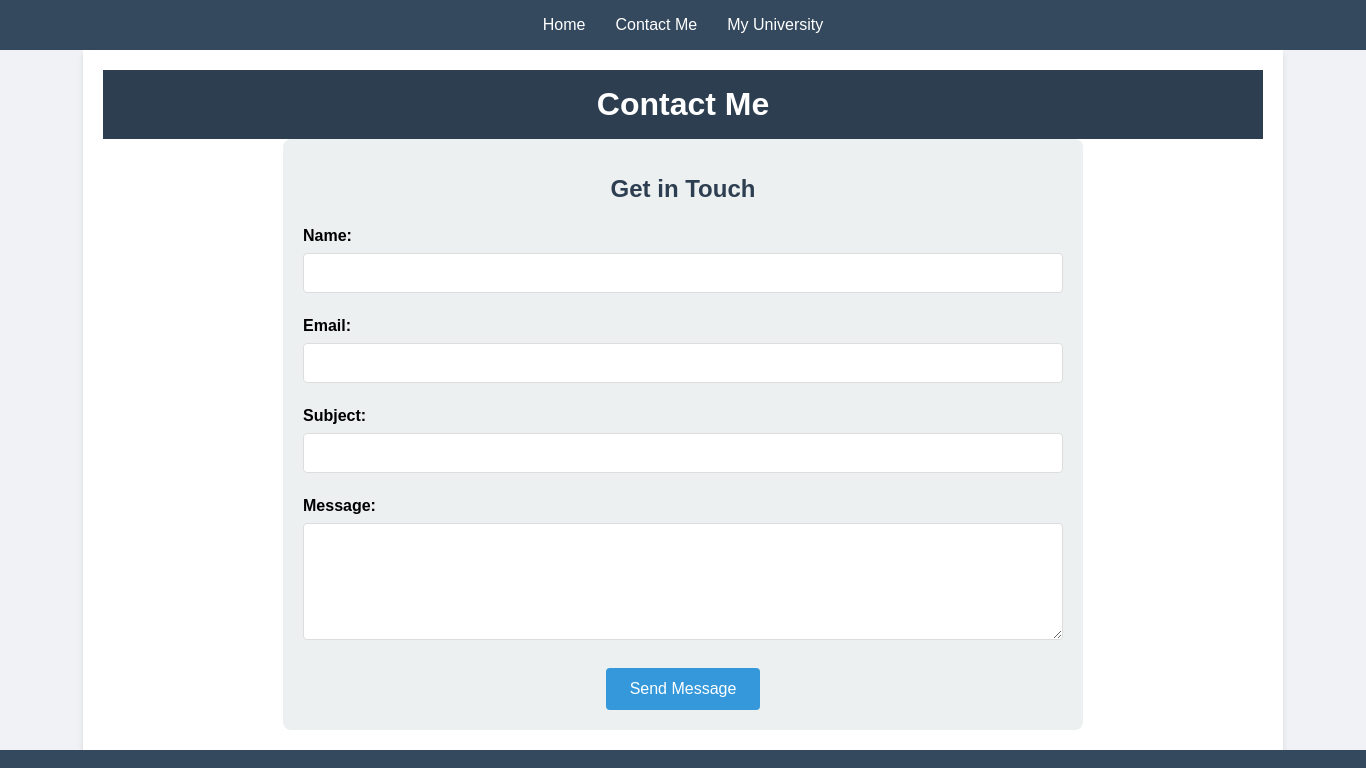
Test: Contact Form Submission › should display error message when form submission fails
Note: Fill out form fields
Type "Test User" into the field with id "name" at (683, 273), box [303,253,1063,293]
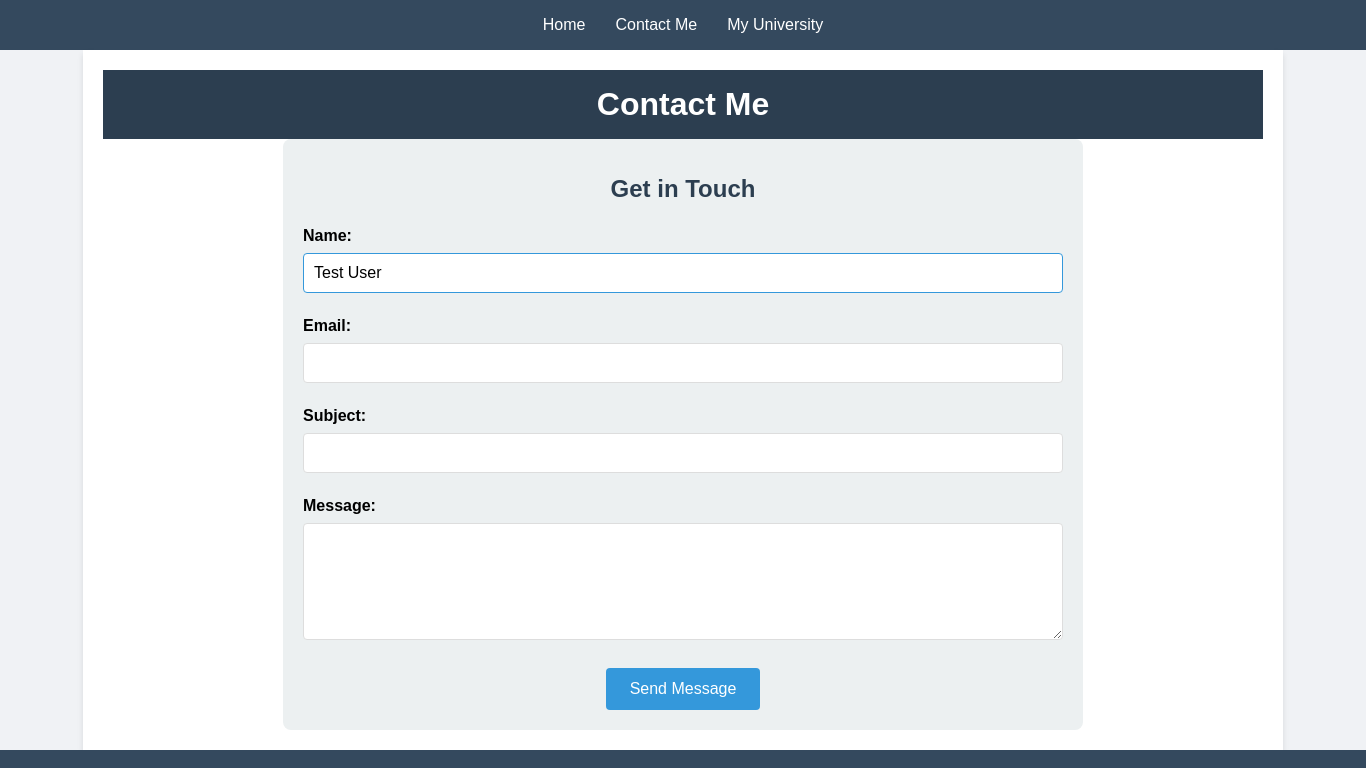
Type "test@example.com" into the field with id "email" at (683, 363), box [303,343,1063,383]
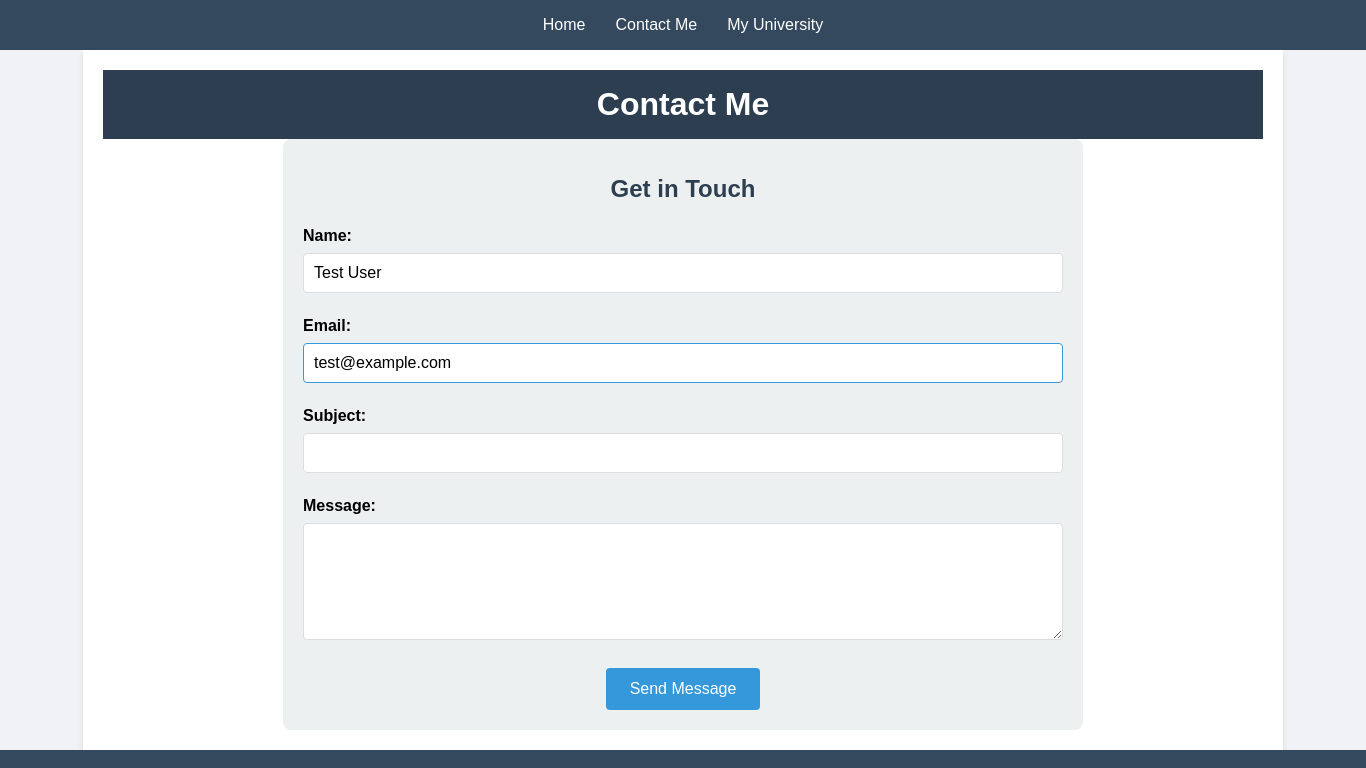
Type "E2E Test Subject" into the field with id "subject" at (683, 453), box [303,433,1063,473]
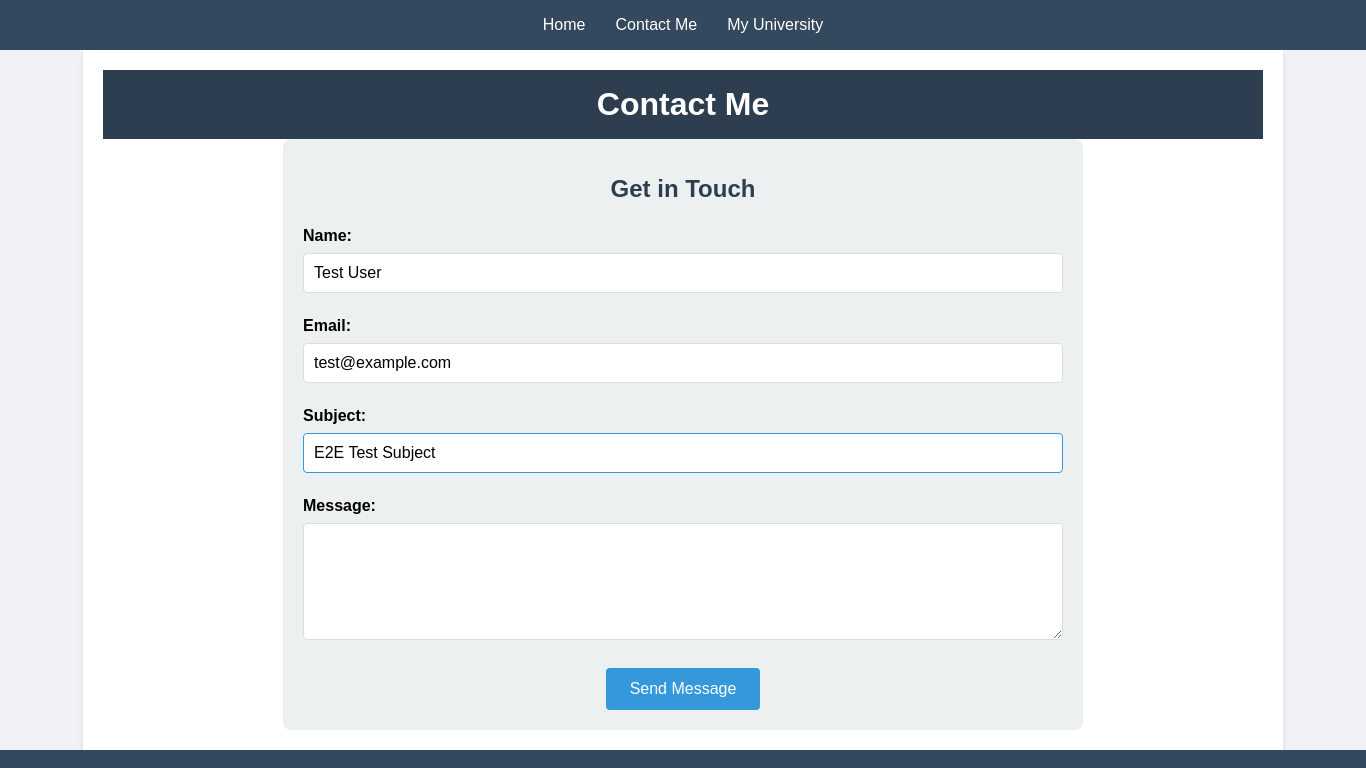
Type "This should trigger an error response." into the text box with id "message" at (683, 582), box [303,523,1063,640]
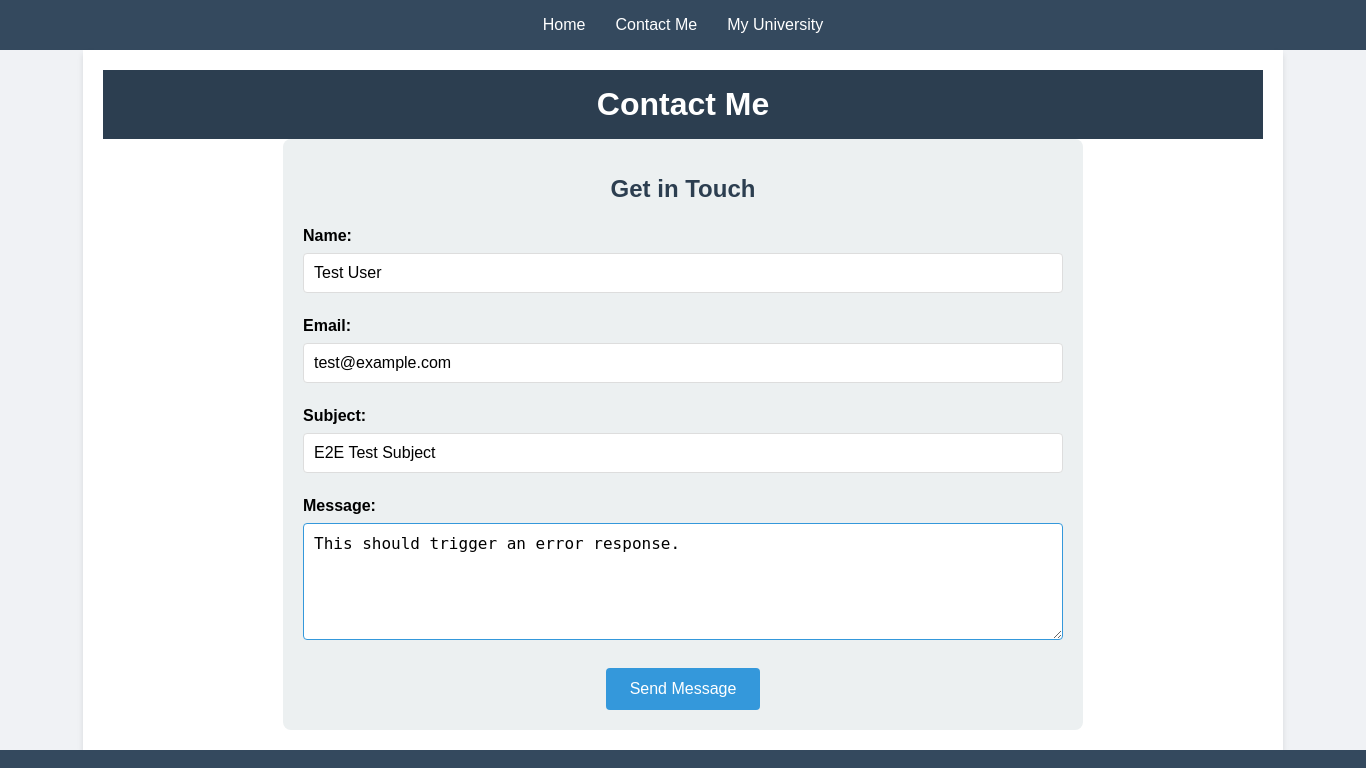
Note: Submit the form
Click the submit button at (684, 689), box [606,668,761,710]
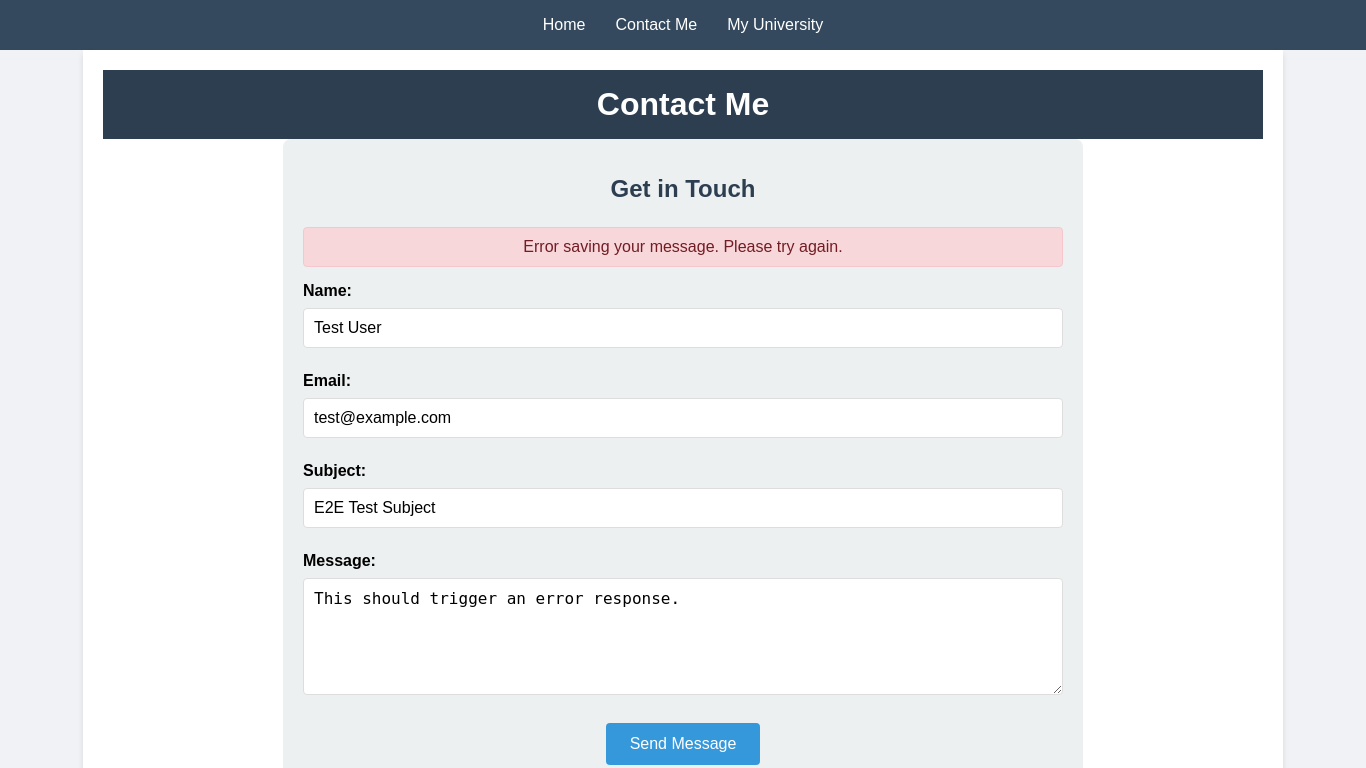
Check: the text "Error saving your message. Please try again." is shown, box [303,227,1063,267]
Check: the text with class "error" shows "Error saving your message", box [523,238,842,255]
